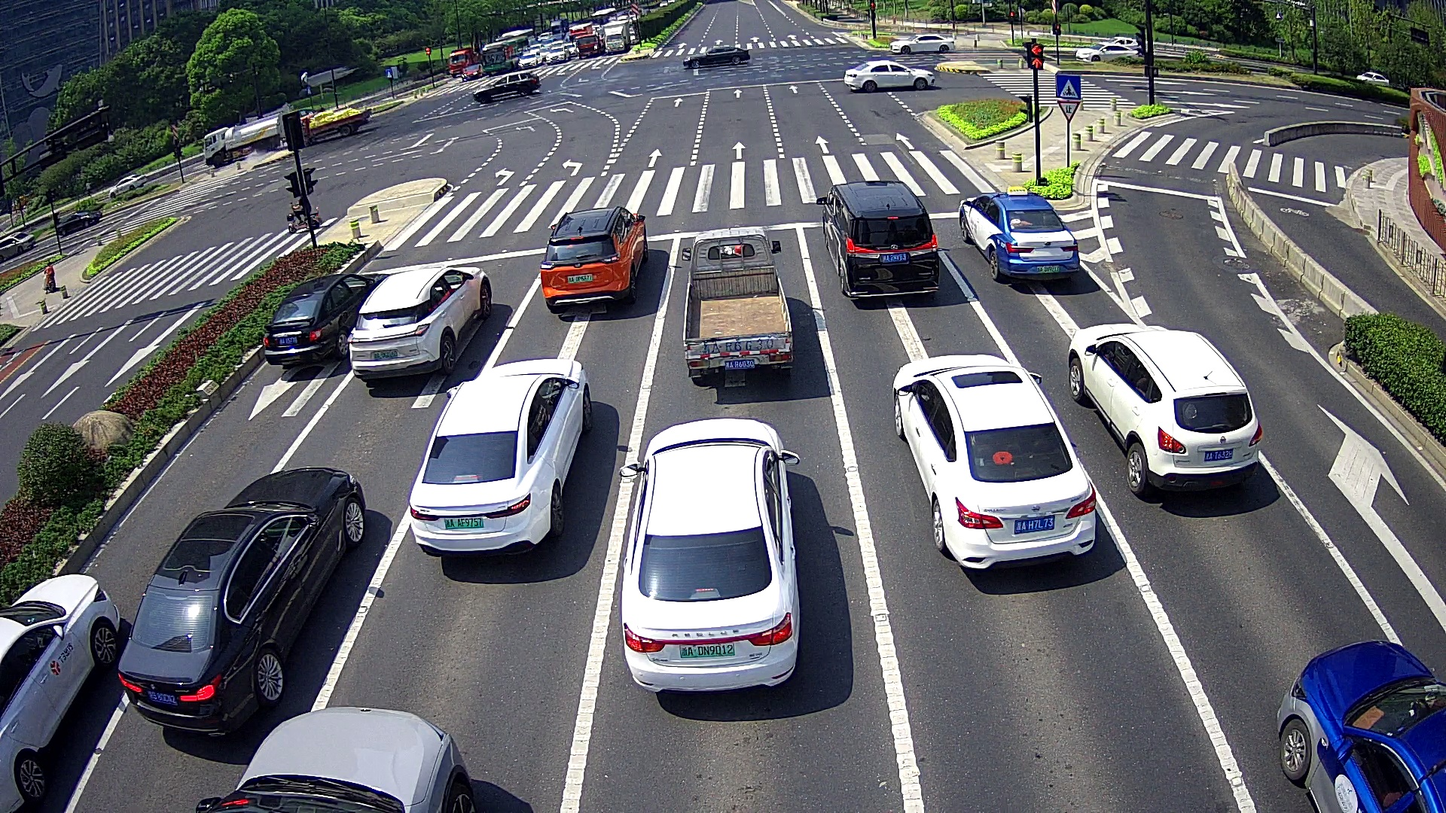vehicle: (115, 464, 366, 736), (617, 413, 802, 696), (888, 352, 1099, 572), (406, 351, 594, 562), (1066, 319, 1267, 498), (1264, 629, 1442, 811), (0, 563, 120, 811), (677, 223, 796, 385), (349, 259, 492, 379), (810, 175, 944, 300), (953, 177, 1084, 284), (536, 205, 649, 313), (257, 269, 380, 366), (840, 50, 938, 96), (203, 118, 297, 156), (470, 68, 541, 101), (681, 43, 749, 67)
